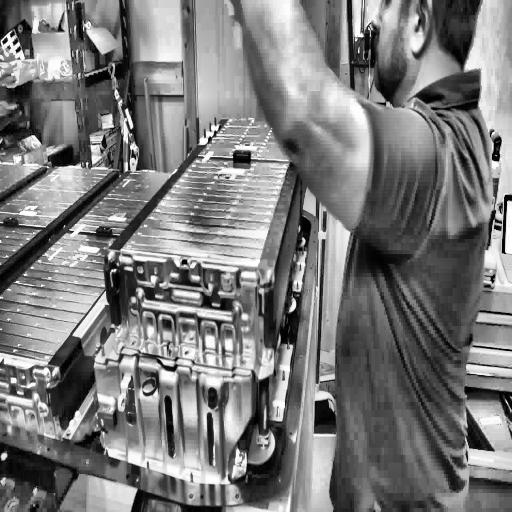battery_module: (0, 231, 142, 362), (121, 157, 289, 267), (69, 170, 186, 244), (0, 167, 114, 228), (199, 120, 301, 160)
